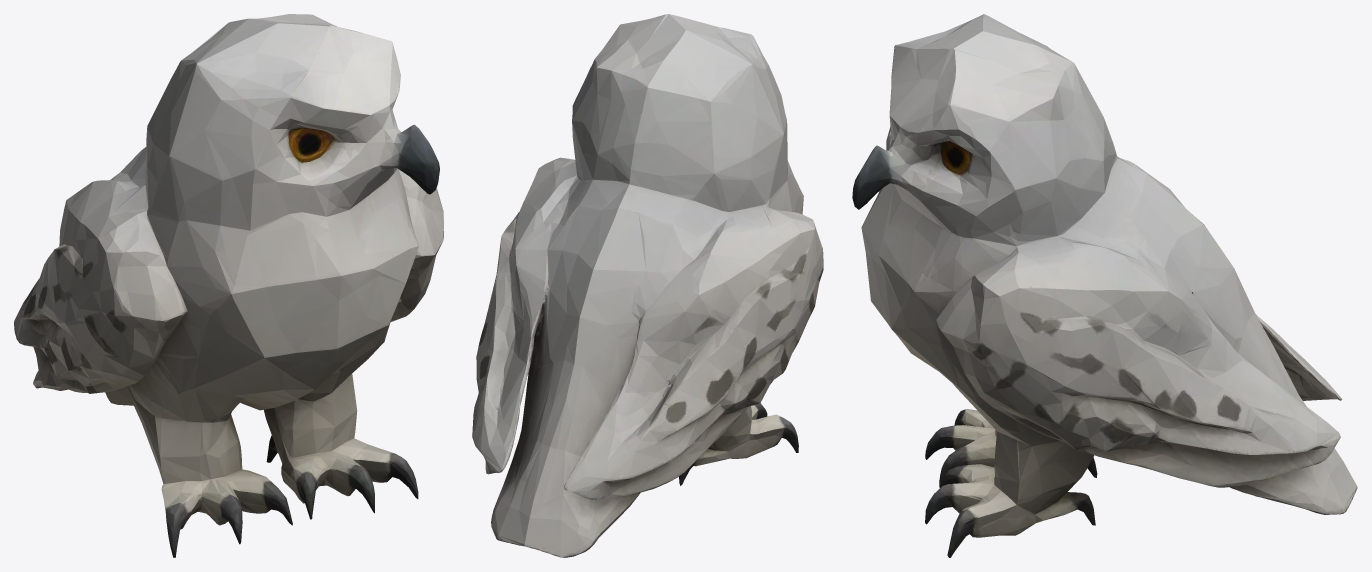
Rendered from snowy_owl.glb.
3 renders of one model, left to right at view 1: azimuth 30°, elevation 25°; view 2: azimuth 150°, elevation 25°; view 3: azimuth 270°, elevation 25°, orthographic. The views are drawn at different scales.
Parts seen in each view (by area): view 1: world; view 2: world; view 3: world.
Part boxes in pixels (x1,y1,x2,y2): world: (14,14,443,557); world: (472,14,823,557); world: (852,14,1357,557).
Bounding box in the file's own units: 0.7235 × 0.9979 × 0.9681.
Materials: 1 (1 with a texture image).
